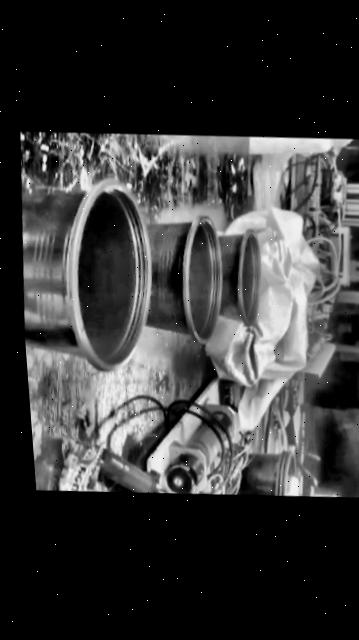pot: (14, 180, 159, 375), (145, 215, 221, 342), (217, 229, 259, 325), (234, 446, 292, 498)
